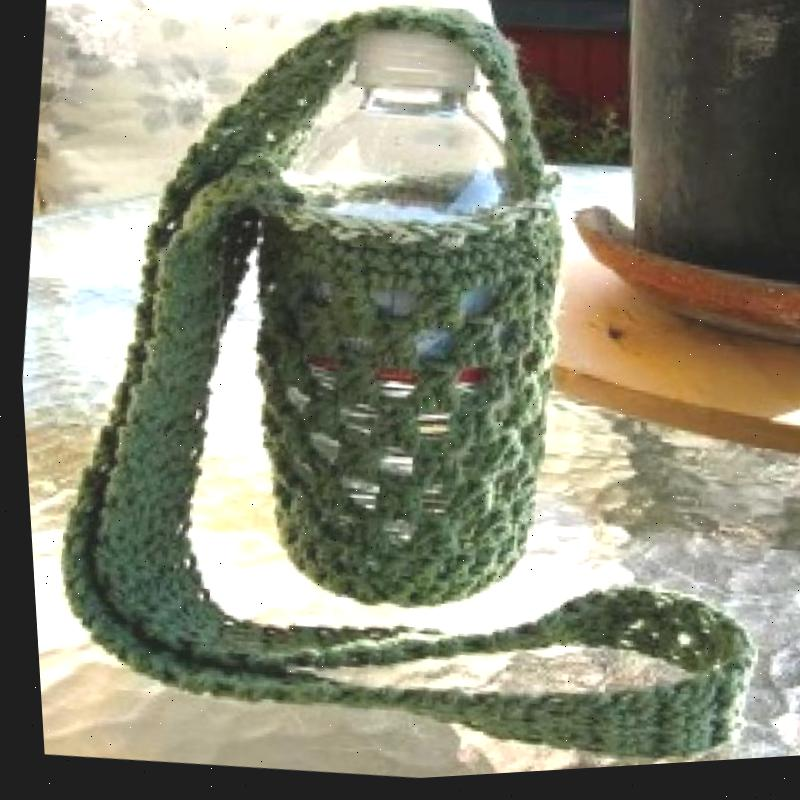botella: (262, 8, 549, 249)
